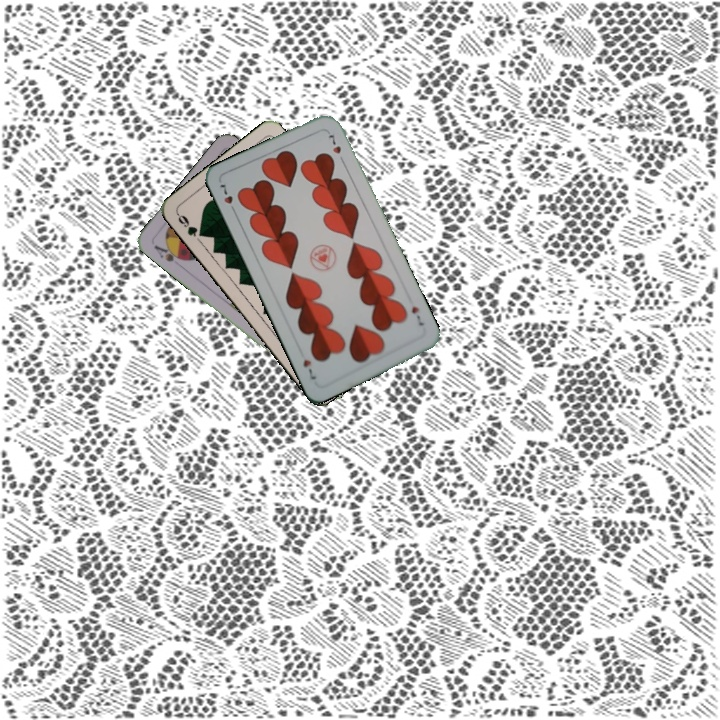G9: (173, 209, 207, 239)
H7: (215, 178, 239, 217), (407, 302, 427, 329)
SA: (150, 240, 187, 264)
